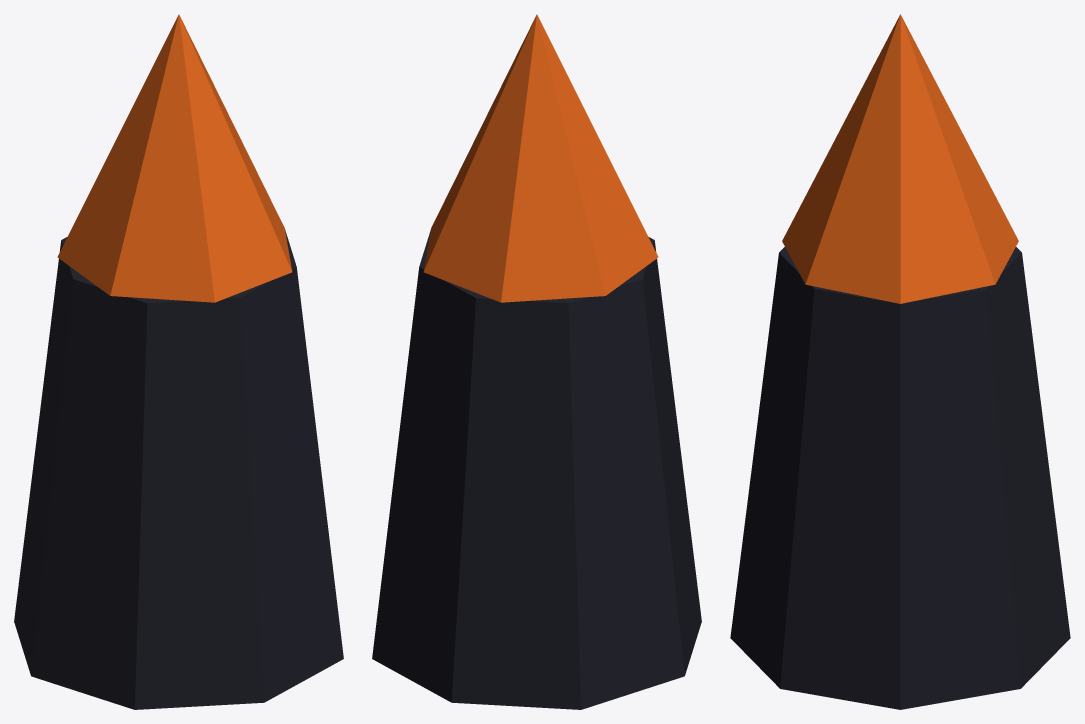
The model's file is void-station__brazier.obj.
The picture shows the model from 3 angles, left to right: view 1: azimuth 30°, elevation 25°; view 2: azimuth 150°, elevation 25°; view 3: azimuth 270°, elevation 25°; orthographic projection.
Parts seen in each view (by area): view 1: brazier, brazier_flame; view 2: brazier, brazier_flame; view 3: brazier, brazier_flame.
Boxes of the visible parts, <box> form: brazier: <box>14,228,343,709</box>; brazier_flame: <box>57,14,292,302</box>; brazier: <box>372,228,701,709</box>; brazier_flame: <box>423,14,658,302</box>; brazier: <box>730,247,1070,709</box>; brazier_flame: <box>782,14,1018,303</box>.
Bounding box in the file's own units: 0.84 × 1.7 × 0.84.
